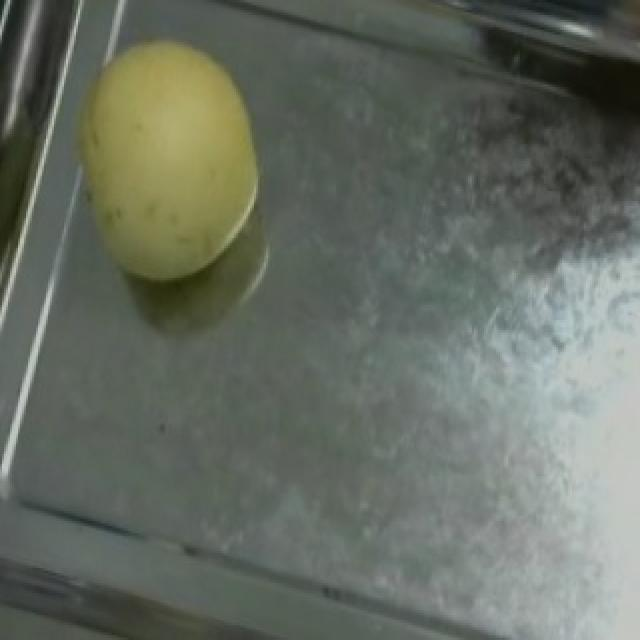Fruit: (28, 10, 298, 320)
